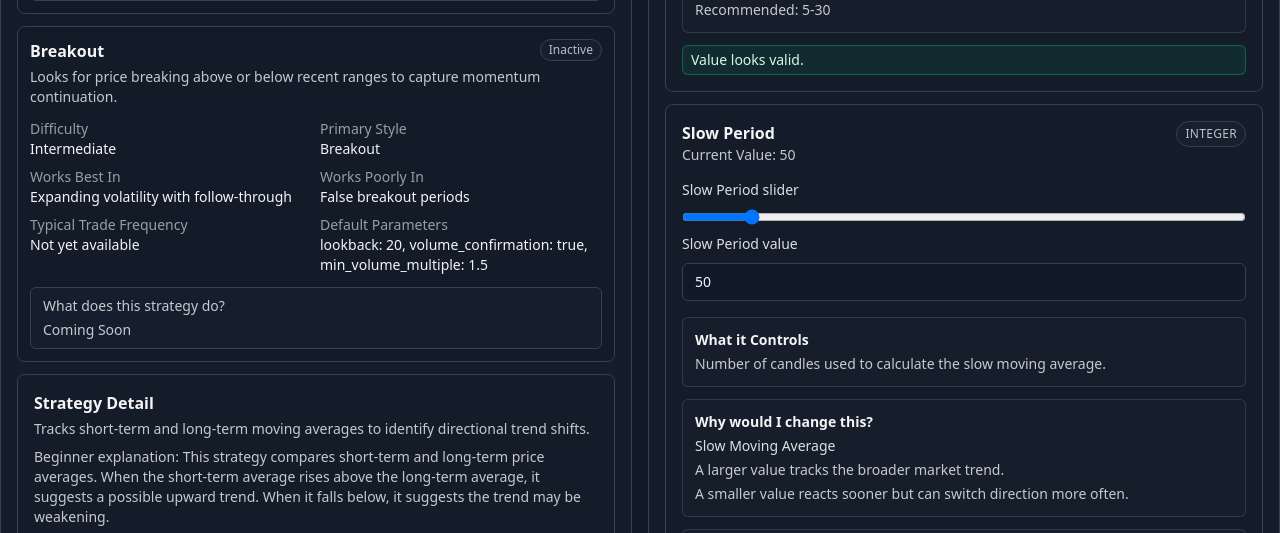
Test: StrategyLabPage Prompt 4.2 › renders decimal and boolean controls when selecting Breakout strategy
(page scrolled)
Click the button with aria-label "Select strategy Breakout" at (316, 194), box [30,39,602,349]
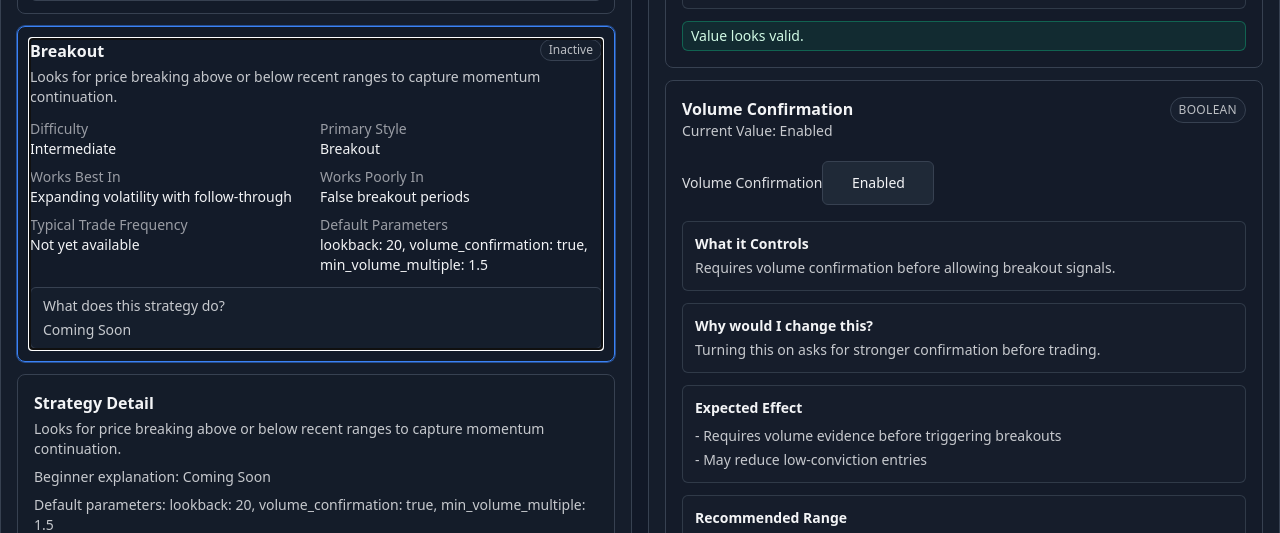
Now the switch named "Volume Confirmation switch" is shown, box [822,161,934,205]
